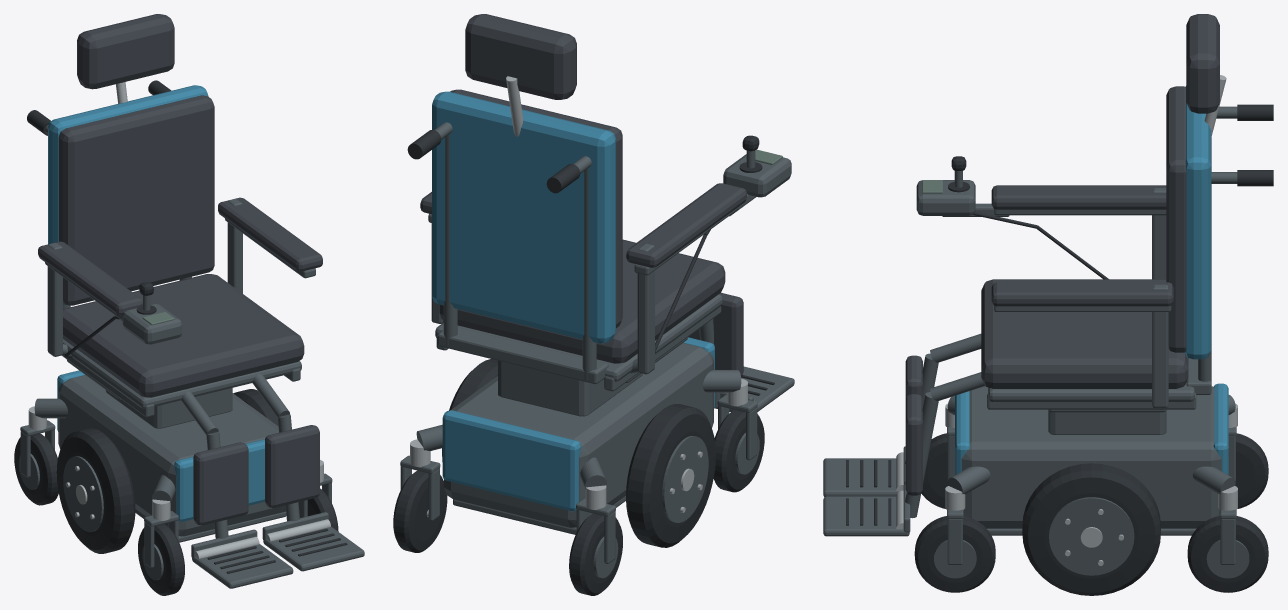
3 renders of one model, left to right at view 1: azimuth 30°, elevation 25°; view 2: azimuth 150°, elevation 25°; view 3: azimuth 270°, elevation 25°, orthographic. The views are drawn at different scales.
Visible parts, largest first — view 1: Back cushion, Complete seat cushion, Enclosed motor battery chassis, Head support pad, Drive tire L, Calf support L, Calf support R, Back shell, Armrest cushion R, Armrest cushion L, Seat pan, Footplate R (+24 smaller); view 2: Back shell, Enclosed motor battery chassis, Blue rear battery shroud, Complete seat cushion, Head support pad, Drive tire L, Seat support pedestal, Armrest cushion L, Back lower cross mount, Caster tire R rear, Drive hub L, Caster tire L rear (+24 smaller); view 3: Enclosed motor battery chassis, Complete seat cushion, Drive tire R, Back shell, Back cushion, Drive hub R, Armrest cushion R, Armrest cushion L, Caster tire R rear, Caster tire R front, Head support pad, Footplate R (+26 smaller).
Part boxes in pixels (x1,y1,x2,y2): Back cushion: [58, 95, 214, 305]; Complete seat cushion: [63, 274, 304, 397]; Enclosed motor battery chassis: [58, 375, 285, 536]; Head support pad: [77, 14, 174, 89]; Drive tire L: [56, 428, 135, 553]; Calf support L: [193, 442, 248, 525]; Calf support R: [265, 425, 319, 507]; Back shell: [48, 85, 208, 304]; Armrest cushion R: [218, 197, 322, 271]; Armrest cushion L: [38, 241, 142, 315]; Seat pan: [63, 339, 301, 408]; Footplate R: [263, 526, 364, 571]; Back shell: [432, 91, 615, 343]; Enclosed motor battery chassis: [444, 343, 713, 527]; Blue rear battery shroud: [442, 410, 581, 511]; Complete seat cushion: [439, 239, 725, 363]; Head support pad: [465, 14, 576, 99]; Drive tire L: [626, 404, 715, 547]; Seat support pedestal: [498, 360, 642, 416]; Armrest cushion L: [626, 183, 746, 267]; Back lower cross mount: [438, 327, 608, 384]; Caster tire R rear: [393, 470, 447, 552]; Drive hub L: [662, 436, 708, 522]; Caster tire L rear: [569, 513, 622, 595]; Enclosed motor battery chassis: [961, 386, 1221, 528]; Complete seat cushion: [981, 279, 1188, 388]; Drive tire R: [1022, 463, 1160, 595]; Back shell: [1185, 86, 1211, 359]; Back cushion: [1166, 86, 1186, 352]; Drive hub R: [1049, 497, 1134, 575]; Armrest cushion R: [991, 282, 1173, 306]; Armrest cushion L: [991, 185, 1166, 209]; Caster tire R rear: [1187, 516, 1268, 592]; Caster tire R front: [914, 516, 995, 592]; Head support pad: [1186, 14, 1219, 113]; Footplate R: [823, 496, 909, 536].
Bounding box in the file's own units: 0.594 × 1.25 × 0.99.
